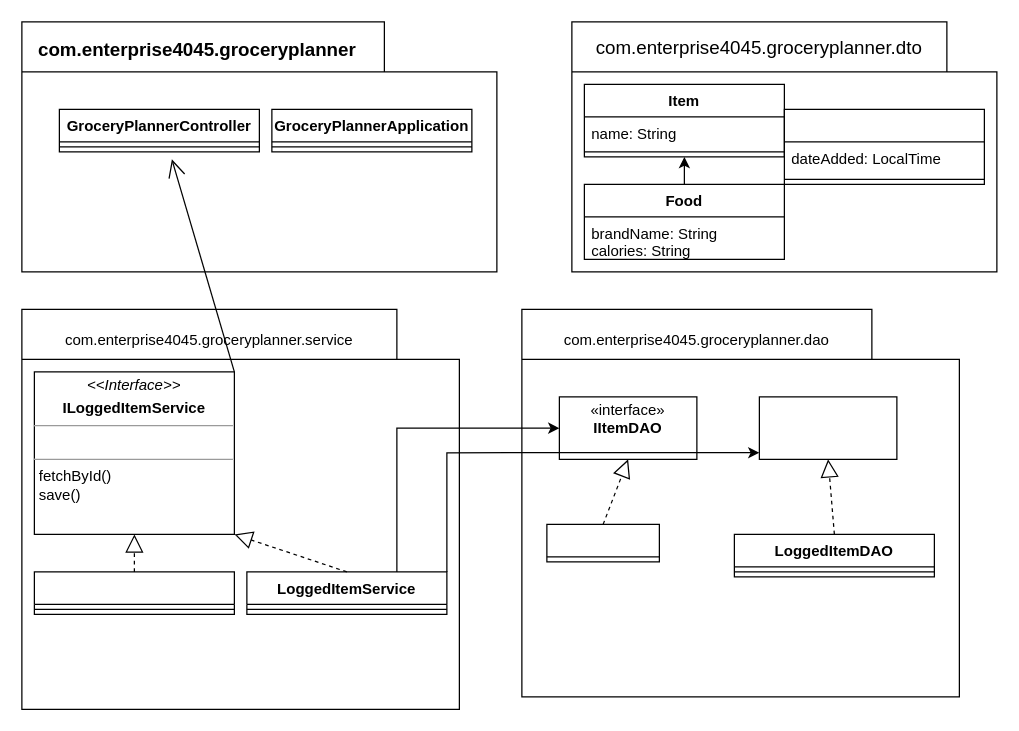
The diagram is 1019 pixels wide and 731 high, and some of its shapes have lost their labels. The shapes that lost their labels are listed below. From the top down, each one's box as (x1, y1, x2, y2) in pixels, then its label:
(783, 108, 984, 184): LoggedItem
(758, 396, 897, 459): «interface» ILoggedItemDAO
(546, 523, 659, 562): ItemDAO
(33, 571, 234, 614): LoggedItemStub
